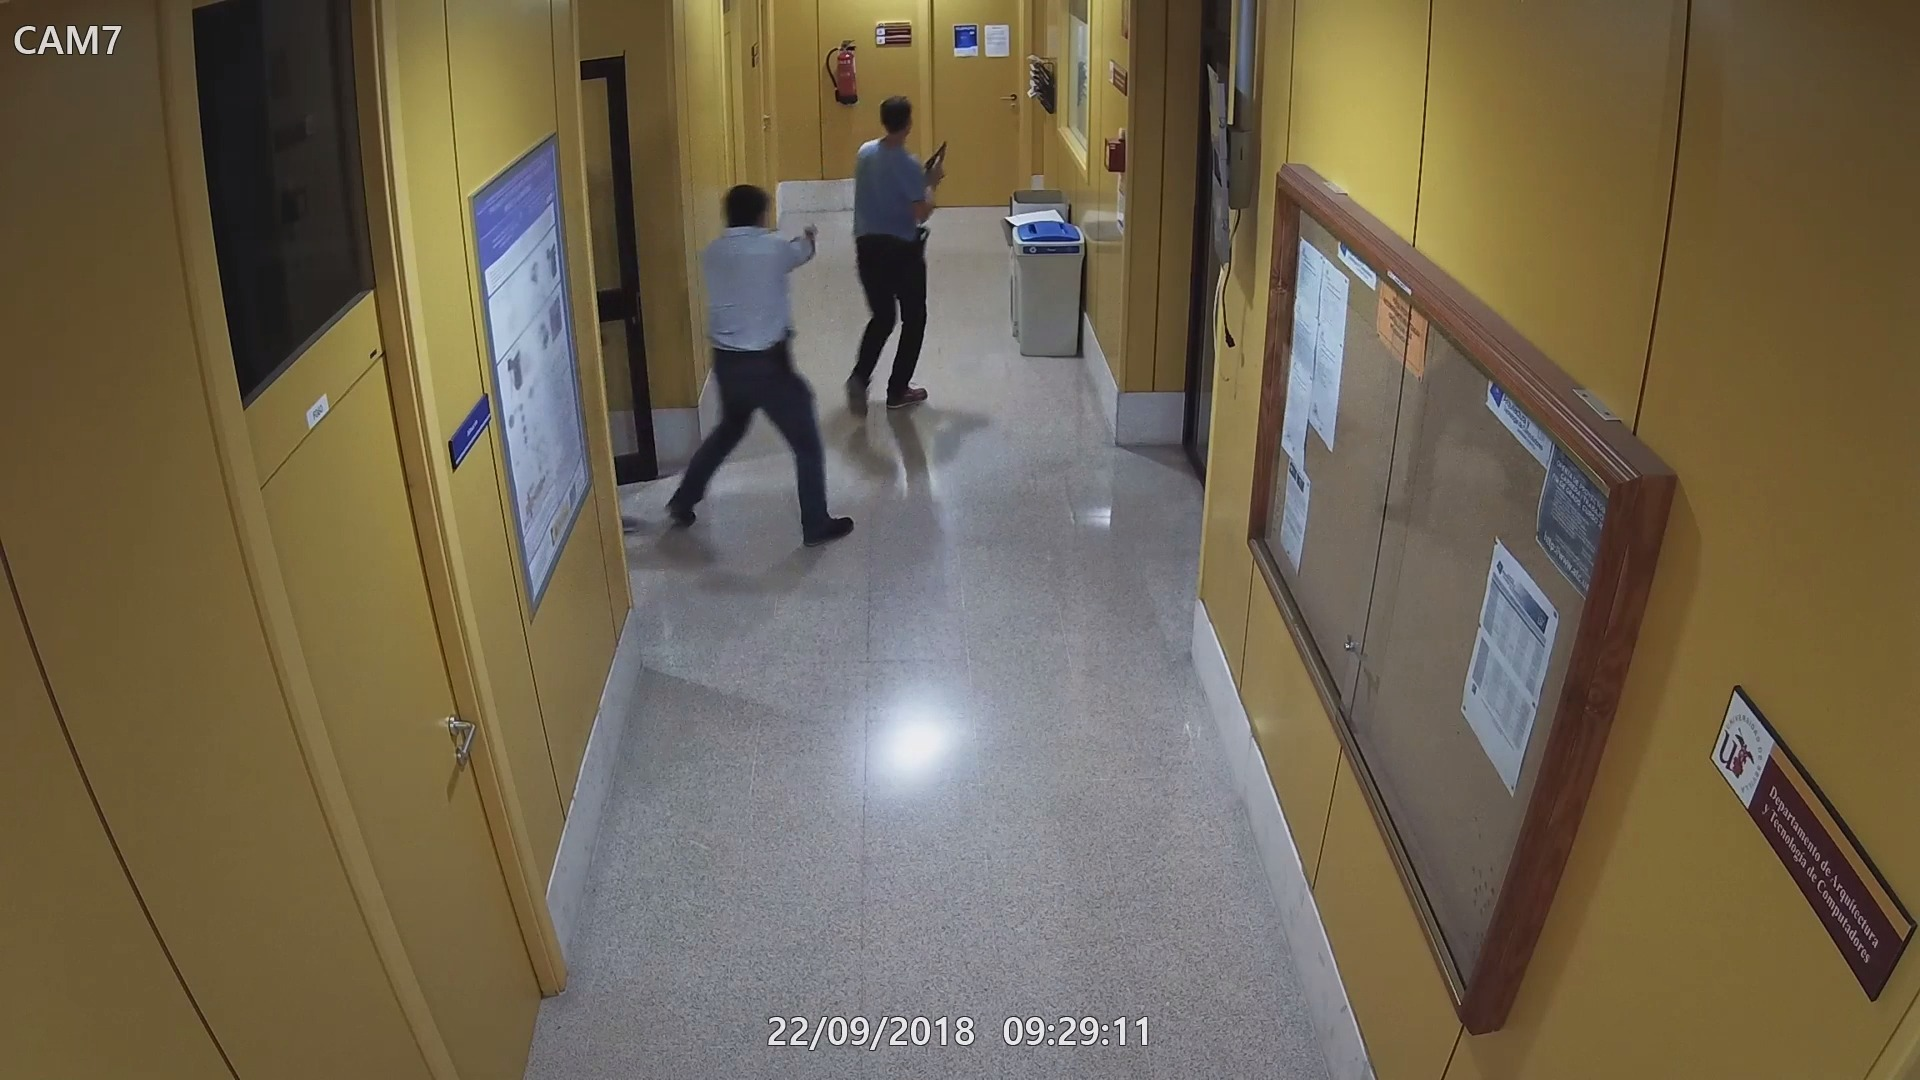Handgun: (923, 135, 947, 174)
